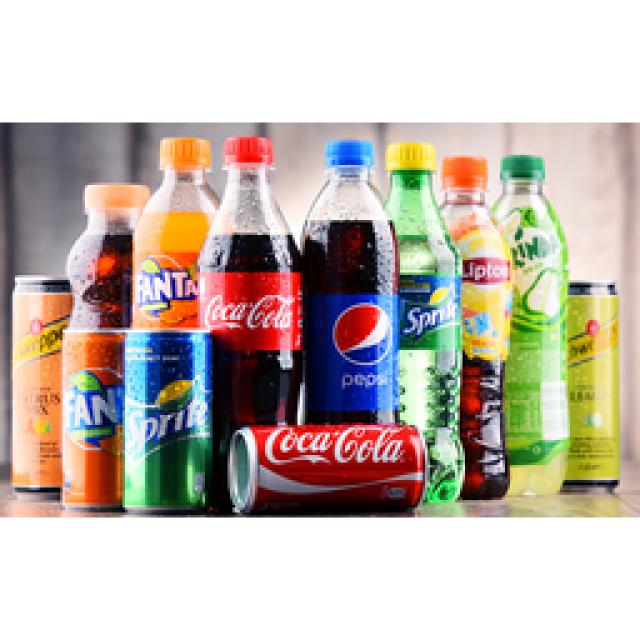aluminum_soda_cans: (228, 422, 424, 524), (117, 328, 216, 516), (563, 276, 624, 500), (13, 274, 71, 492), (59, 320, 124, 508)
plastic_soda_bottles: (198, 134, 302, 418), (488, 157, 568, 500), (300, 142, 398, 418), (436, 153, 509, 498), (384, 138, 464, 429), (136, 134, 220, 327), (67, 176, 152, 323)
